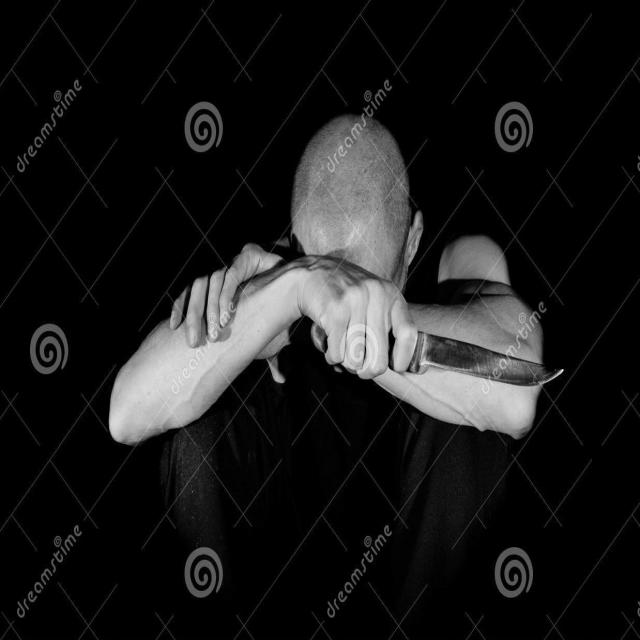knife: (413, 324, 570, 412)
